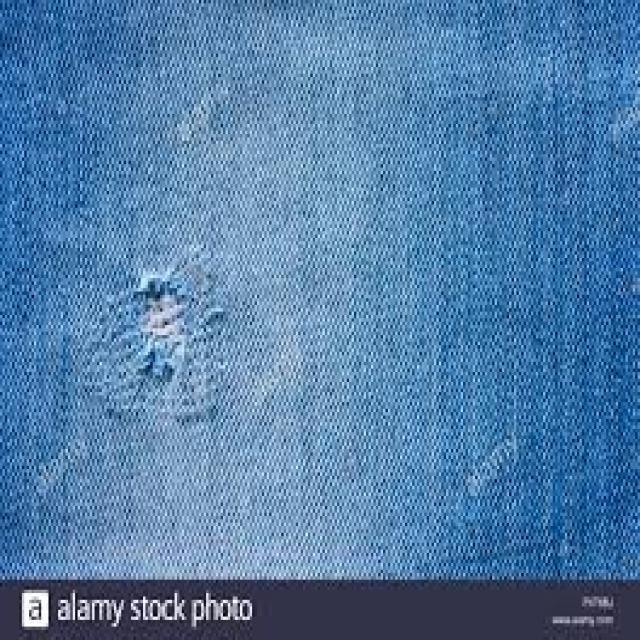seam: (54, 219, 294, 492)
